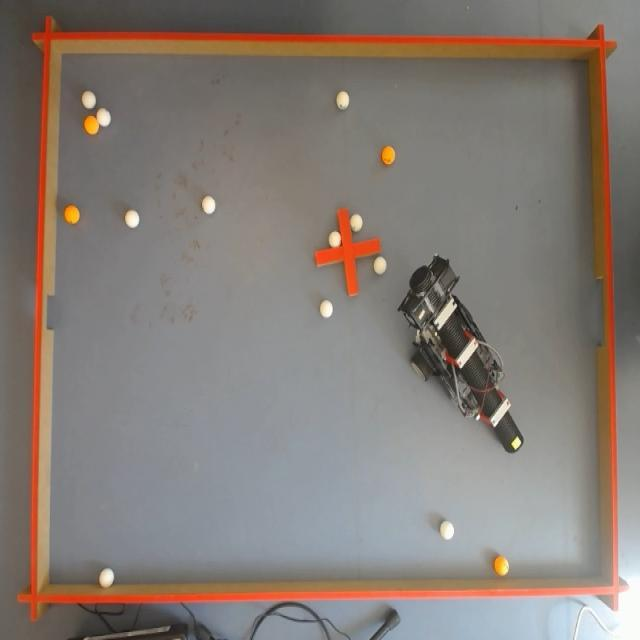orange: (494, 554, 512, 576), (84, 116, 100, 135), (64, 208, 79, 224), (384, 147, 398, 162)
robot: (404, 242, 514, 442)
white: (98, 567, 114, 588), (84, 89, 98, 110), (372, 256, 386, 276), (442, 518, 454, 540), (319, 298, 332, 318), (348, 214, 362, 232), (95, 108, 108, 127), (125, 211, 138, 230), (337, 89, 348, 111), (202, 196, 214, 216), (330, 230, 340, 248)
